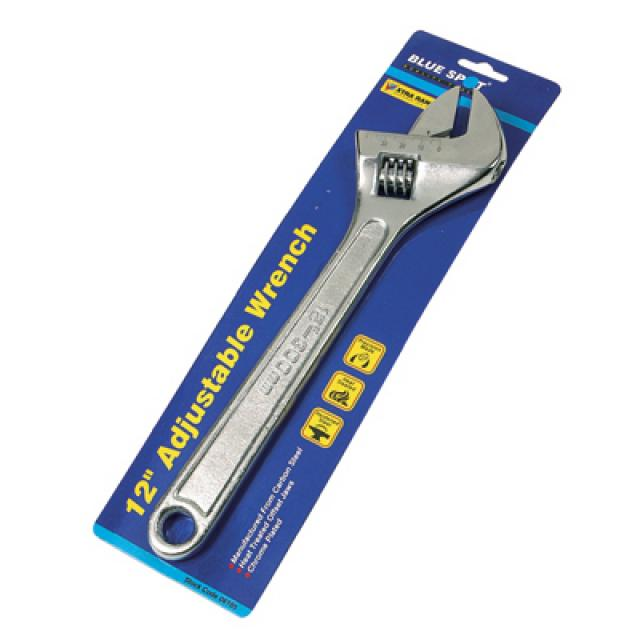wrench: (147, 28, 640, 640)
